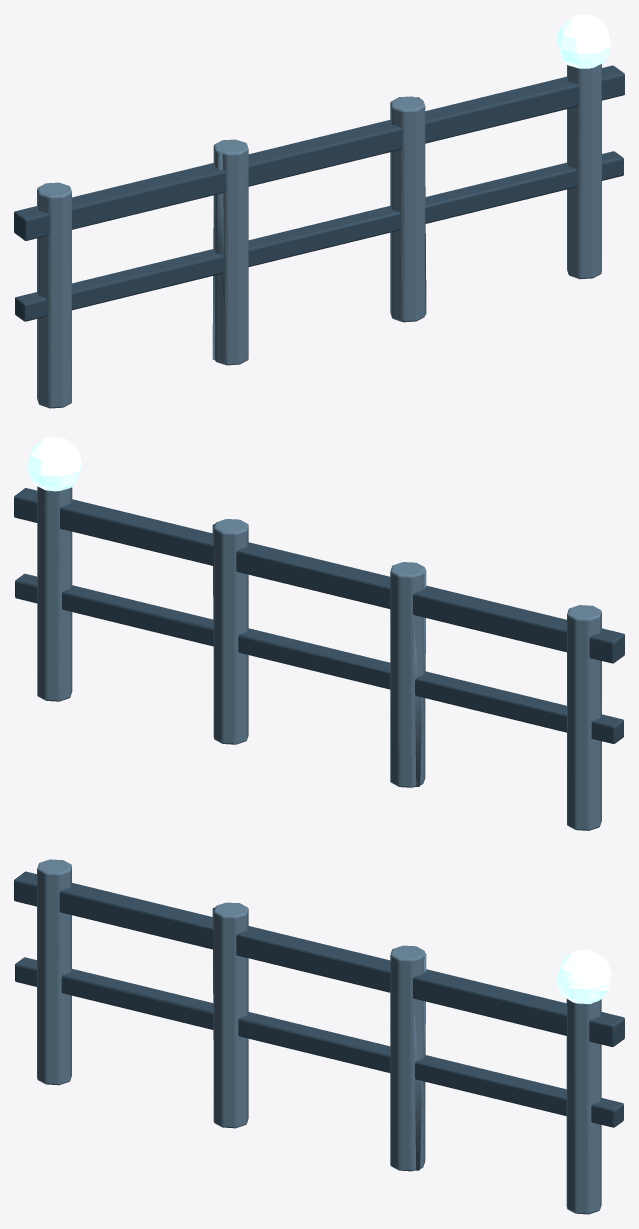
File: SM_Rheinufer_Railing.fbx
3 views of the same model, one above another, from view 1: azimuth 30°, elevation 25°; view 2: azimuth 150°, elevation 25°; view 3: azimuth 330°, elevation 25° (orthographic).
Parts seen in each view (by area): view 1: LOD0_SM_Rheinufer_Railing, LOD1_SM_Rheinufer_Railing, LOD2_SM_Rheinufer_Railing, LOD3_SM_Rheinufer_Railing; view 2: LOD0_SM_Rheinufer_Railing, LOD1_SM_Rheinufer_Railing, LOD2_SM_Rheinufer_Railing, LOD3_SM_Rheinufer_Railing; view 3: LOD0_SM_Rheinufer_Railing, LOD1_SM_Rheinufer_Railing, LOD2_SM_Rheinufer_Railing, LOD3_SM_Rheinufer_Railing.
Boxes of the visible parts, box(x1,y1,x2,y2) form: LOD0_SM_Rheinufer_Railing: box(14, 14, 624, 408); LOD1_SM_Rheinufer_Railing: box(14, 14, 624, 407); LOD2_SM_Rheinufer_Railing: box(14, 21, 624, 407); LOD3_SM_Rheinufer_Railing: box(14, 15, 624, 408); LOD0_SM_Rheinufer_Railing: box(14, 437, 624, 830); LOD1_SM_Rheinufer_Railing: box(14, 437, 623, 830); LOD2_SM_Rheinufer_Railing: box(14, 444, 624, 829); LOD3_SM_Rheinufer_Railing: box(14, 437, 624, 830); LOD0_SM_Rheinufer_Railing: box(14, 859, 624, 1214); LOD1_SM_Rheinufer_Railing: box(14, 859, 624, 1213); LOD2_SM_Rheinufer_Railing: box(14, 860, 624, 1214); LOD3_SM_Rheinufer_Railing: box(14, 868, 614, 1214).
Bounding box in the file's own units: 3.4 × 1.38 × 0.2767.
